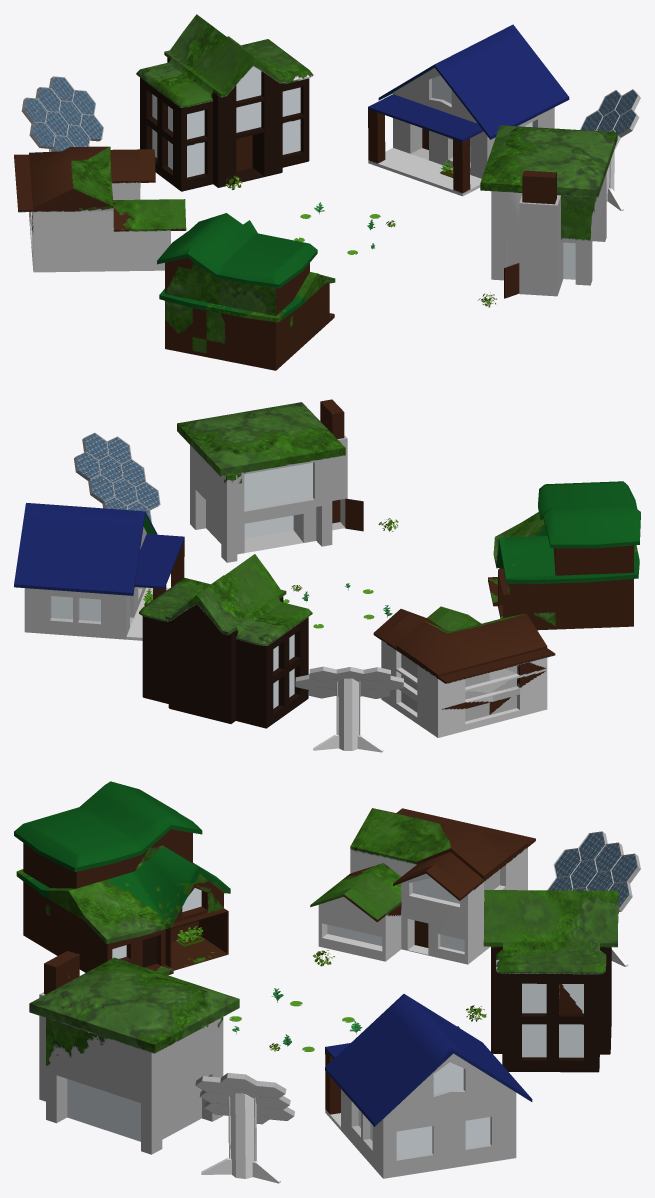
The model's file is protopianLayout.glb.
3 renders of one model, top to bottom at view 1: azimuth 30°, elevation 25°; view 2: azimuth 150°, elevation 25°; view 3: azimuth 270°, elevation 25°, orthographic. The views are drawn at different scales.
Visible parts, largest first — view 1: h1, hexa_solar2; view 2: h1, hexa_solar2; view 3: h1, hexa_solar2.
Part boxes in pixels (box(x1,y1,x2,y2)): h1: box(14, 14, 617, 370); hexa_solar2: box(21, 76, 640, 210); h1: box(14, 399, 640, 737); hexa_solar2: box(74, 432, 403, 752); h1: box(14, 781, 618, 1178); hexa_solar2: box(195, 831, 640, 1183).
Size of the model in its own units: 37.84 by 8.32 by 32.28.
Materials: 10 (5 with a texture image).
